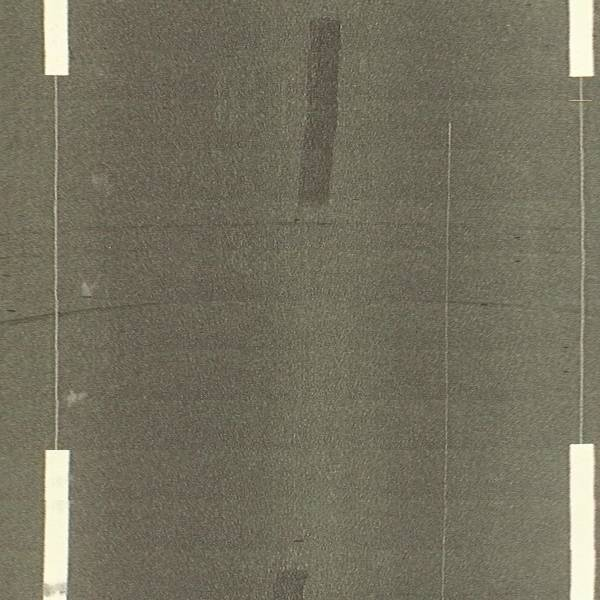road_damage: (83, 217, 342, 236)
